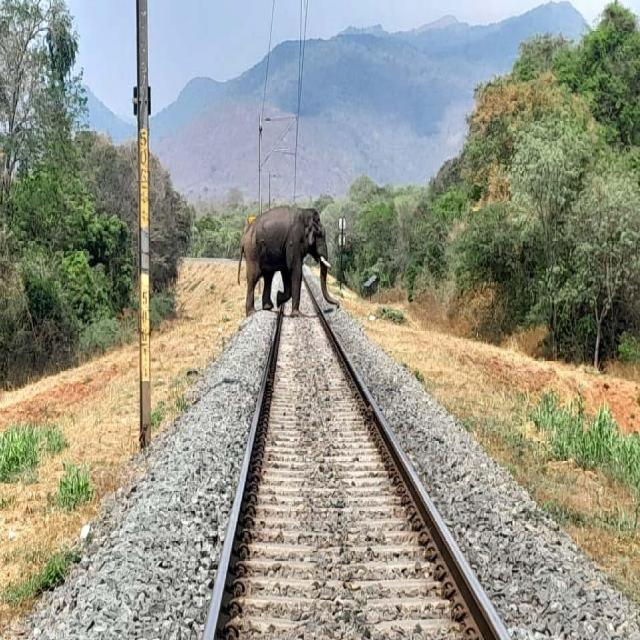Elephant: (230, 197, 342, 331)
